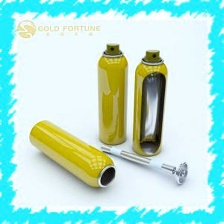aerosol_cans: (26, 117, 118, 190), (128, 45, 170, 161), (93, 39, 128, 149)
